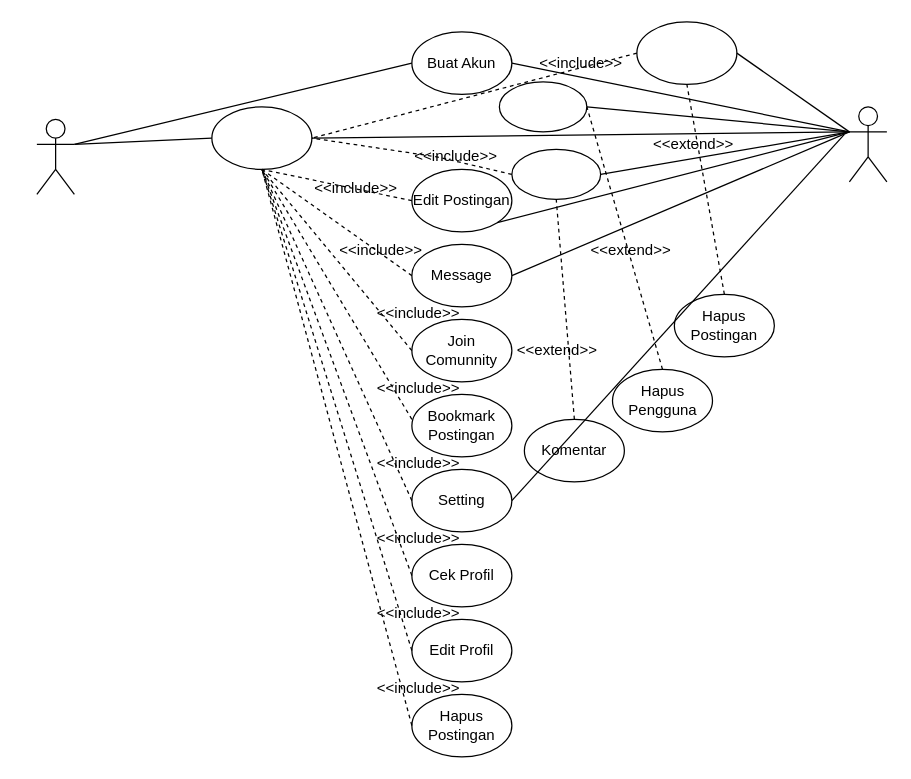
The diagram is 911 pixels wide and 779 high, and some of its shapes have lost their labels. The shapes that lost their labels are listed below. From the top down, each one's centre as x and y in pixels, then its label:
At point 686,52: "Buat Postingan".
At point 542,106: "Ban Pengguna".
At point 55,156: "Pengguna".
At point 261,137: "Login".
At point 867,144: "Admin".
At point 556,173: "Lihat Postingan".
